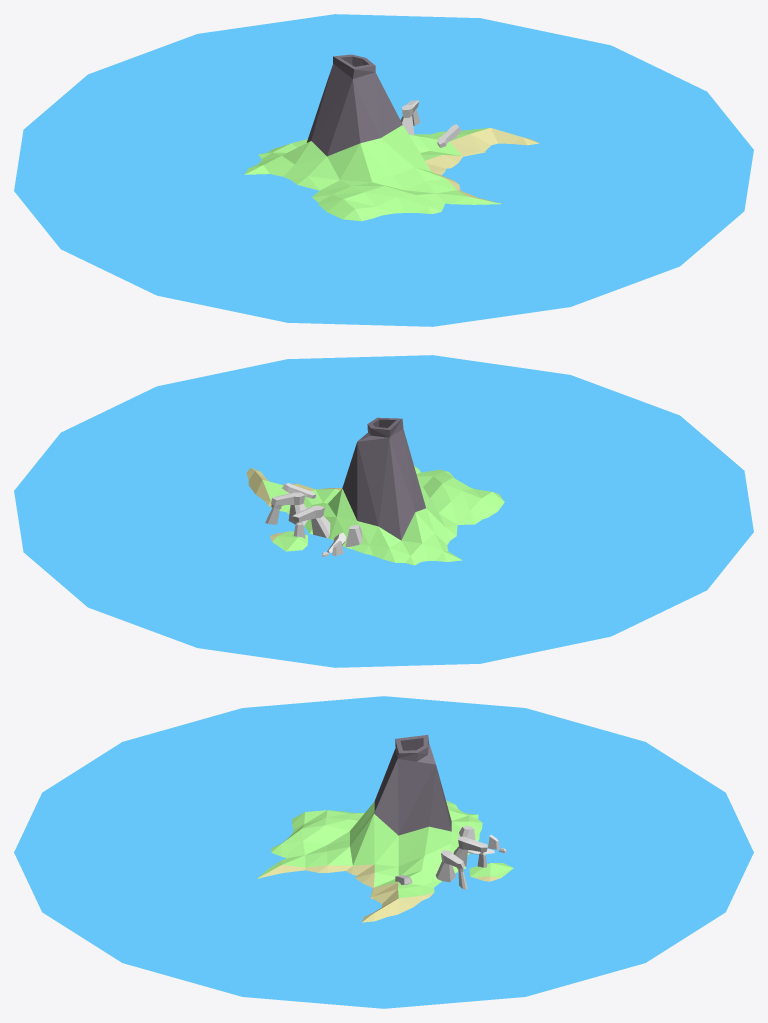
File: LowPolyIsland.fbx
The picture shows the model from 3 angles, top to bottom: view 1: azimuth 30°, elevation 25°; view 2: azimuth 150°, elevation 25°; view 3: azimuth 270°, elevation 25°; orthographic projection.
Visible parts, largest first — view 1: Water, Island, Ruins; view 2: Water, Island, Ruins; view 3: Water, Island, Ruins.
Part boxes in pixels (<box>): Water: <box>14,14,753,326</box>; Island: <box>244,54,539,221</box>; Ruins: <box>400,100,461,147</box>; Water: <box>14,355,753,667</box>; Island: <box>246,417,504,565</box>; Ruins: <box>265,483,362,556</box>; Water: <box>14,696,753,1008</box>; Island: <box>257,735,513,922</box>; Ruins: <box>395,826,506,889</box>.
Size of the model in its own units: 16000 by 2623 by 16000.
